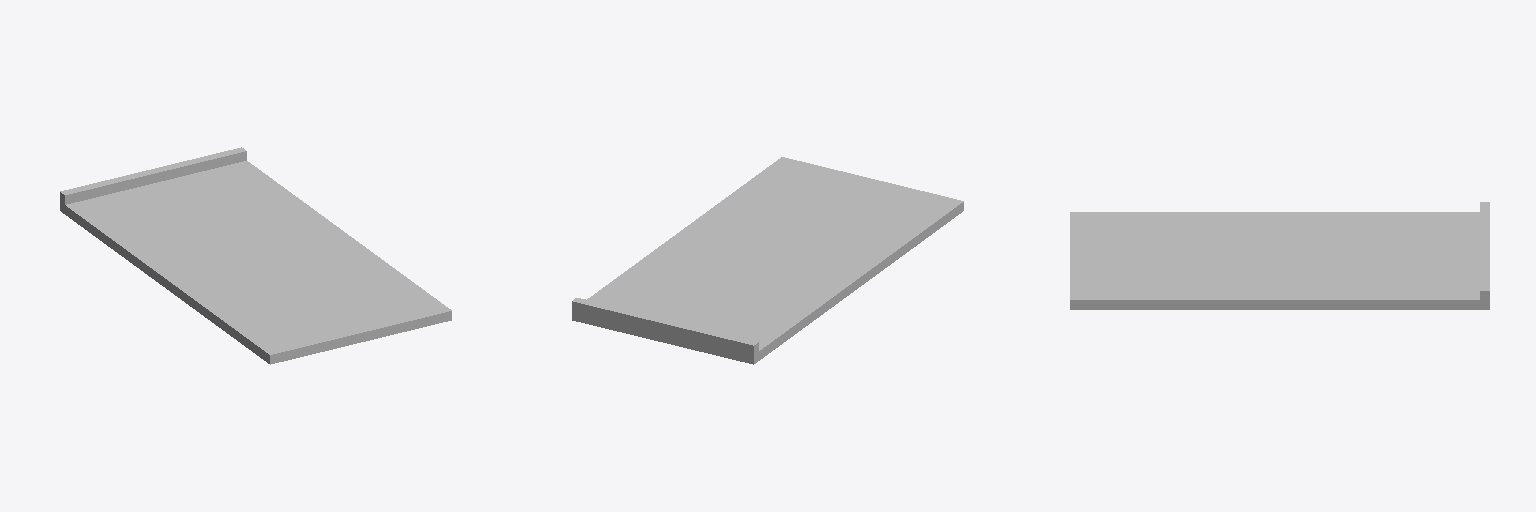
Rendered from towel_blue.obj.
3 views of the same model, side by side, from view 1: azimuth 30°, elevation 25°; view 2: azimuth 150°, elevation 25°; view 3: azimuth 270°, elevation 25° (orthographic).
Visible parts, largest first — view 1: object 1; view 2: object 1; view 3: object 1.
Part boxes in pixels (x1,y1,x2,y2): object 1: (60, 147, 451, 364); object 1: (572, 157, 963, 364); object 1: (1070, 202, 1489, 309).
Size of the model in its own units: 2 by 0.2 by 4.